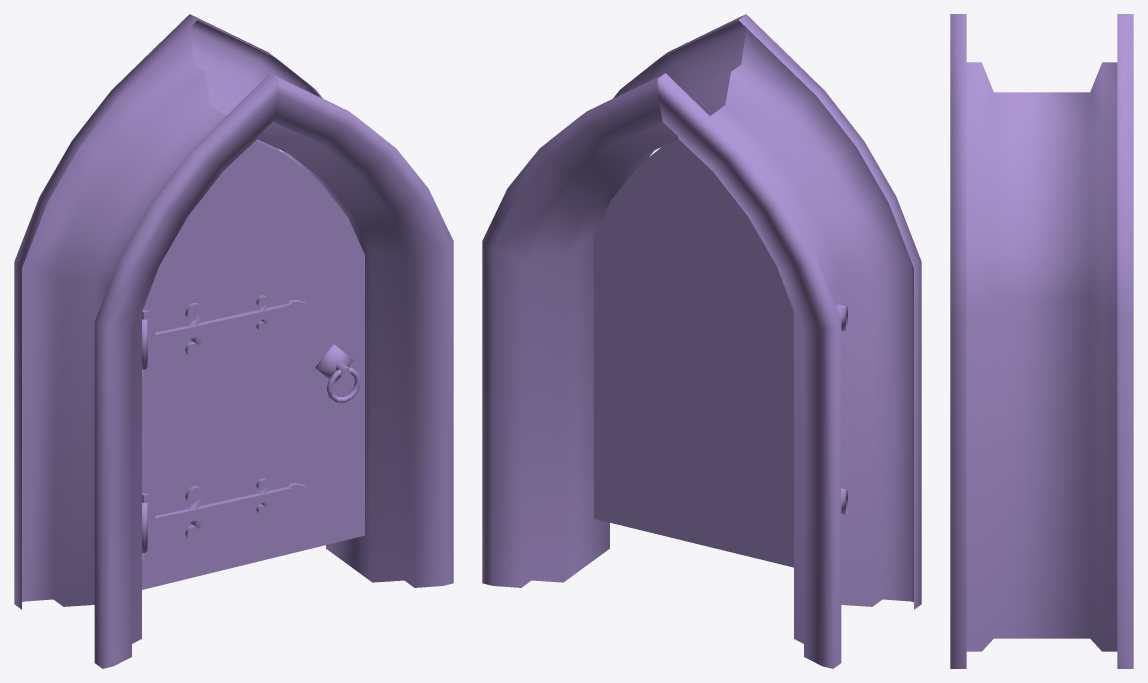
The model's file is door_a.fbx.
The picture shows the model from 3 angles, left to right: view 1: azimuth 30°, elevation 25°; view 2: azimuth 150°, elevation 25°; view 3: azimuth 270°, elevation 25°; orthographic projection. The views are drawn at different scales.
Visible parts, largest first — view 1: Cube.109, Cube.111; view 2: Cube.109, Cube.111; view 3: Cube.109.
Part boxes in pixels (left/top/right/bottom): Cube.109: left=14, top=14, right=453, bottom=668; Cube.111: left=142, top=139, right=364, bottom=589; Cube.109: left=482, top=14, right=921, bottom=668; Cube.111: left=594, top=139, right=793, bottom=567; Cube.109: left=950, top=14, right=1133, bottom=668.
Bounding box in the file's own units: 2.79 × 4.15 × 1.22.
